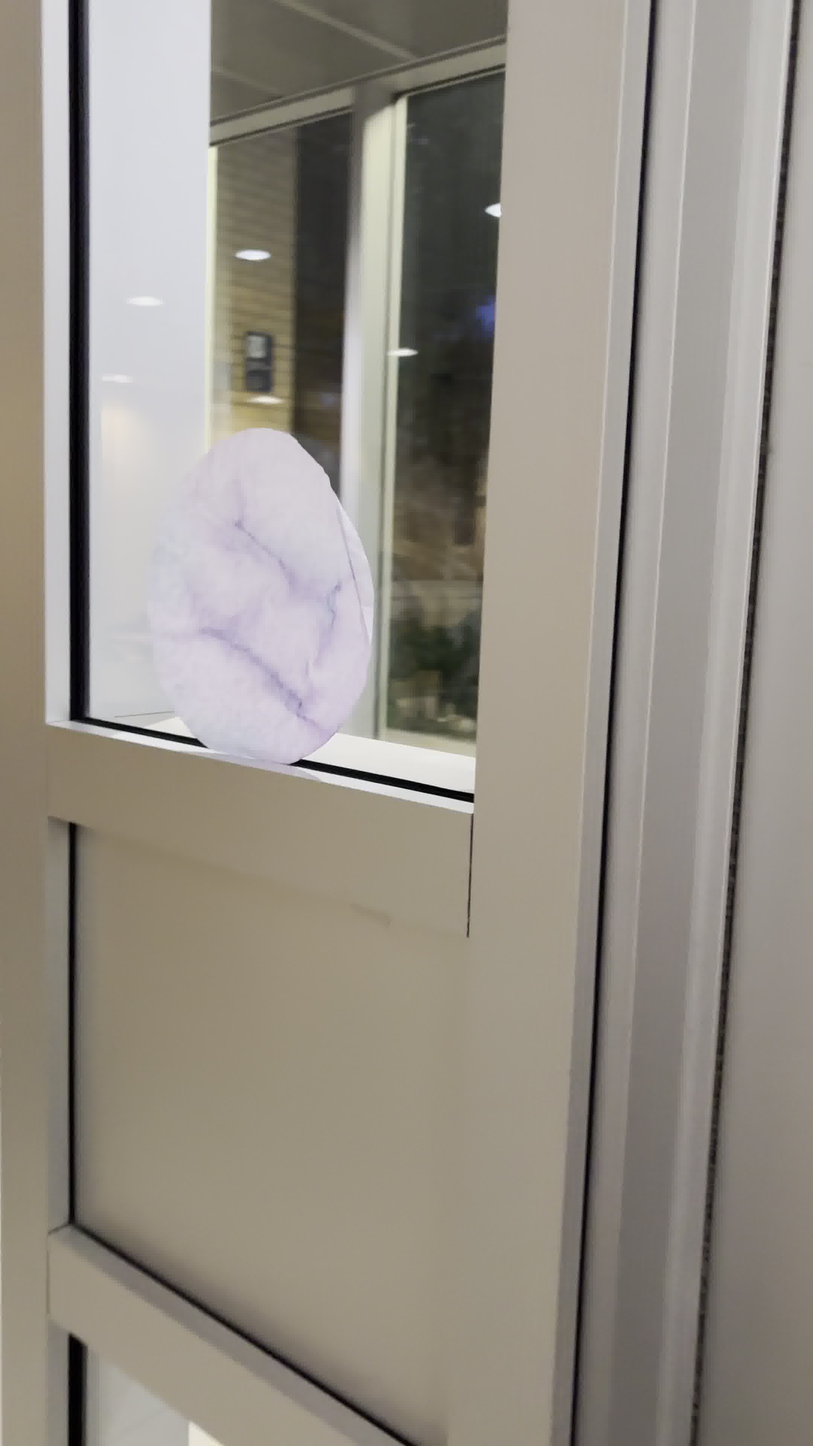Target: (145, 424, 381, 771)
